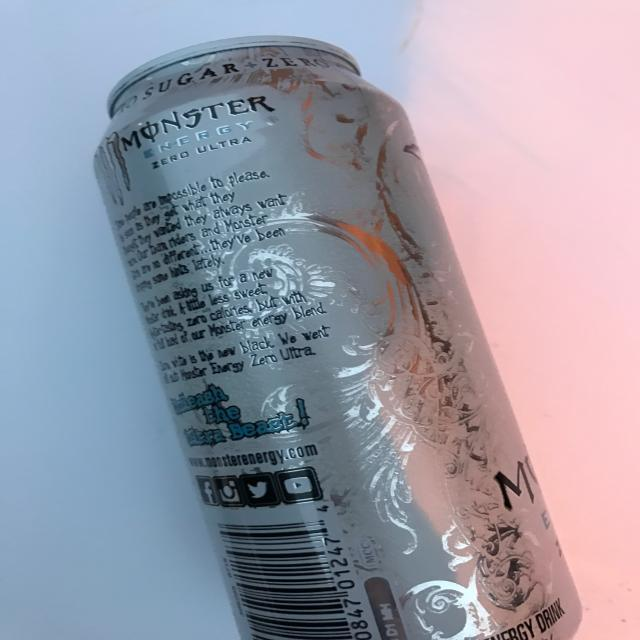metal: (91, 33, 582, 640)
